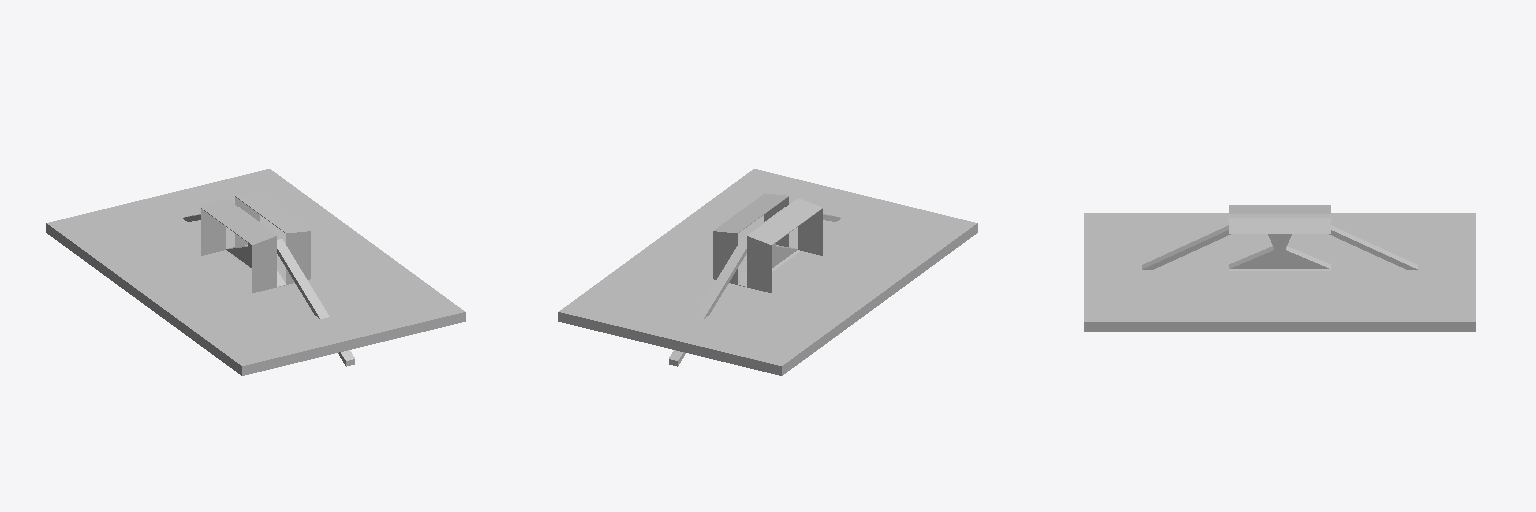
File: TestObj.obj
3 views of the same model, side by side, from view 1: azimuth 30°, elevation 25°; view 2: azimuth 150°, elevation 25°; view 3: azimuth 270°, elevation 25° (orthographic).
Parts seen in each view (by area): view 1: Plane; view 2: Plane; view 3: Plane.
Boxes of the visible parts, <box> form: Plane: <box>46,169,465,375</box>; Plane: <box>558,169,977,375</box>; Plane: <box>1084,205,1475,331</box>.
Size of the model in its own units: 47.31 by 16.26 by 71.76.